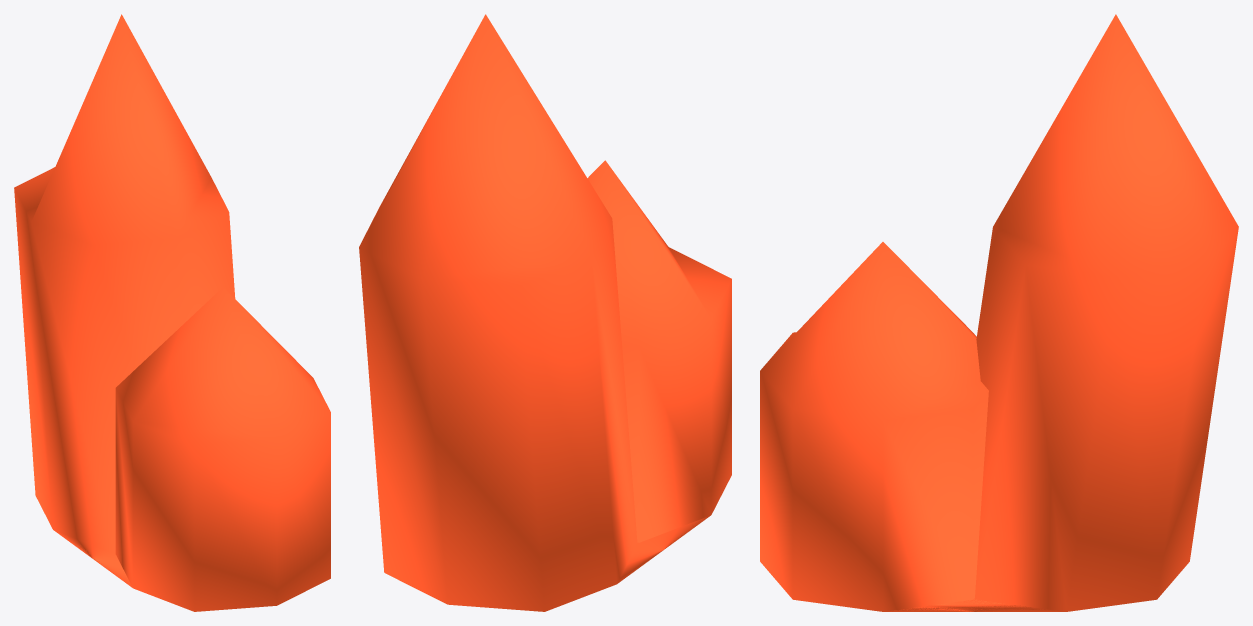
Rendered from SmallRedCrystal.glb.
3 renders of one model, left to right at view 1: azimuth 30°, elevation 25°; view 2: azimuth 150°, elevation 25°; view 3: azimuth 270°, elevation 25°, orthographic. The views are drawn at different scales.
Parts seen in each view (by area): view 1: Cubo.018; view 2: Cubo.018; view 3: Cubo.018.
Part boxes in pixels (box(x1,y1,x2,y2)): Cubo.018: box(14, 14, 330, 611); Cubo.018: box(359, 14, 731, 611); Cubo.018: box(760, 14, 1238, 611).
Size of the model in its own units: 3.7 by 9.38 by 7.44.
